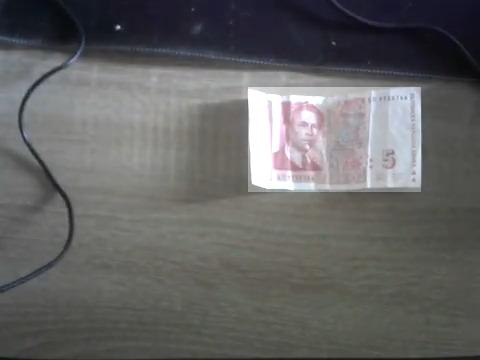5leva: (248, 87, 421, 192)
